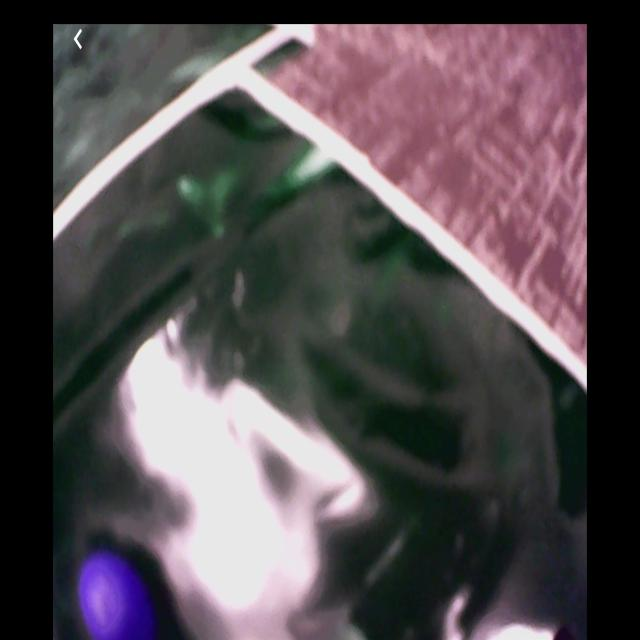ball: (78, 550, 155, 640)
